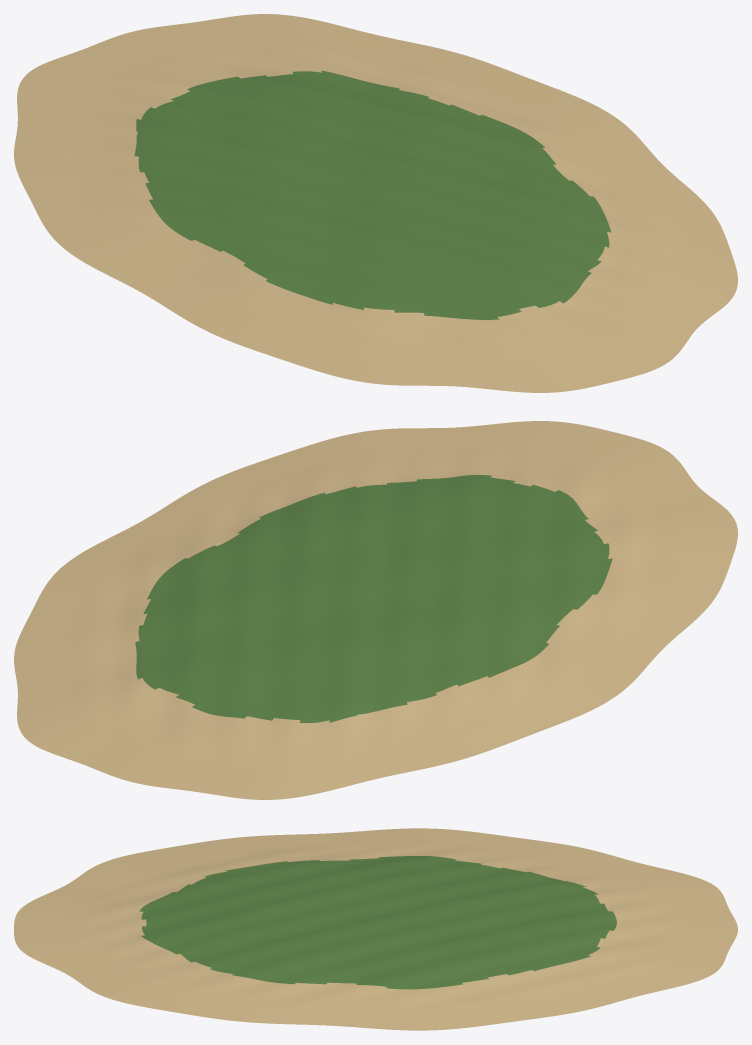
The model's file is Sunbeam_Island_LOD1.glb.
The picture shows the model from 3 angles, top to bottom: view 1: azimuth 30°, elevation 25°; view 2: azimuth 150°, elevation 25°; view 3: azimuth 270°, elevation 25°; orthographic projection. The views are drawn at different scales.
Visible parts, largest first — view 1: Sunbeam_Island_GameMesh; view 2: Sunbeam_Island_GameMesh; view 3: Sunbeam_Island_GameMesh.
Part boxes in pixels (bbox=[...]): Sunbeam_Island_GameMesh: bbox=[14, 14, 737, 392]; Sunbeam_Island_GameMesh: bbox=[14, 421, 737, 799]; Sunbeam_Island_GameMesh: bbox=[14, 828, 737, 1030].
Bounding box in the file's own units: 130 × 3.89 × 196.
